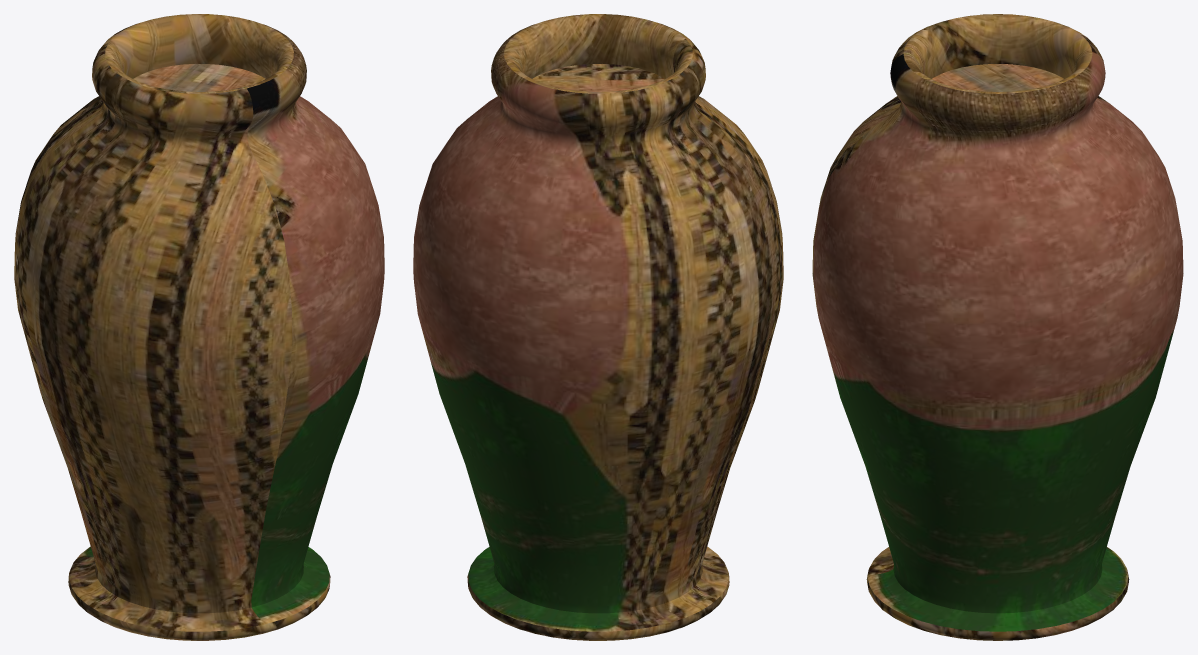
Rendered from xi_oam_vasebig.gltf.
3 renders of one model, left to right at view 1: azimuth 30°, elevation 25°; view 2: azimuth 150°, elevation 25°; view 3: azimuth 270°, elevation 25°, orthographic.
Visible parts, largest first — view 1: xi_oam_vasebig; view 2: xi_oam_vasebig; view 3: xi_oam_vasebig.
Part boxes in pixels (left/top/right/bottom): xi_oam_vasebig: left=14, top=14, right=384, bottom=640; xi_oam_vasebig: left=413, top=14, right=783, bottom=640; xi_oam_vasebig: left=812, top=14, right=1183, bottom=640.
Bounding box in the file's own units: 0.6373 × 1.01 × 0.6373.
Materials: 1 (1 with a texture image).
